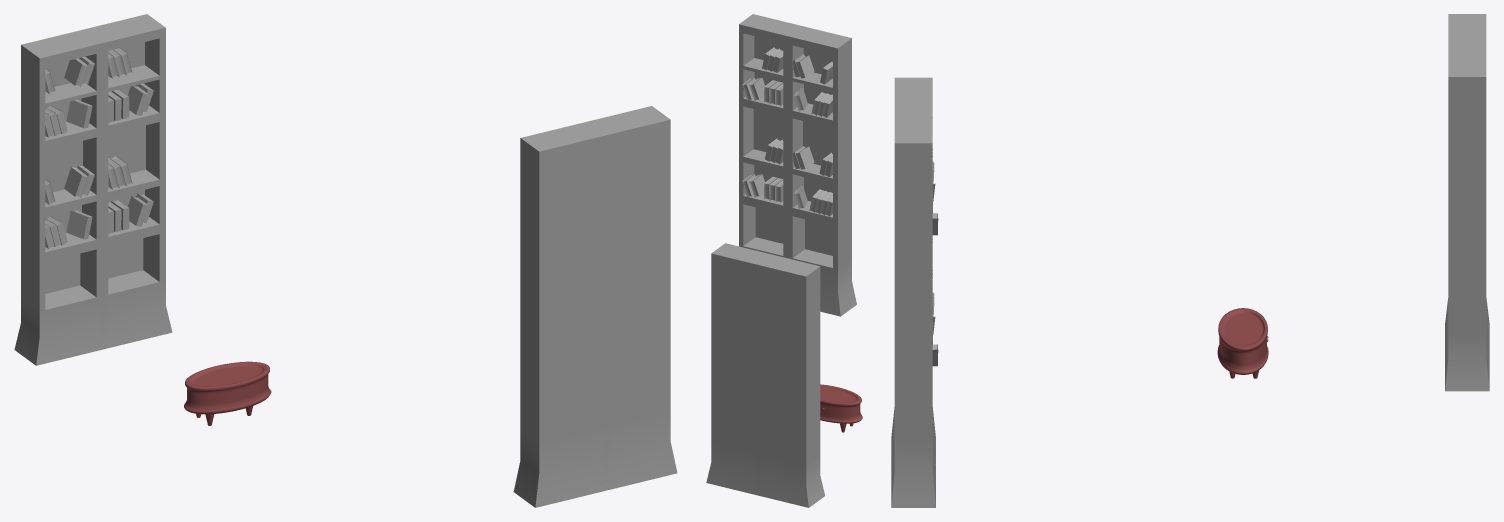
File: exportttt.fbx
The picture shows the model from 3 angles, left to right: view 1: azimuth 30°, elevation 25°; view 2: azimuth 150°, elevation 25°; view 3: azimuth 270°, elevation 25°; orthographic projection. The views are drawn at different scales.
Visible parts, largest first — view 1: BOOKSHELF1, BOOKSHELF, pCylinder16; view 2: BOOKSHELF, BOOKSHELF1, pCylinder16, book50, book67, book52, book35, book39, book56, book61; view 3: BOOKSHELF1, BOOKSHELF, pCylinder16.
Boxes of the visible parts, left/top/right/bottom form: BOOKSHELF1: left=513, top=106, right=677, bottom=507; BOOKSHELF: left=14, top=14, right=172, bottom=365; pCylinder16: left=184, top=361, right=271, bottom=414; BOOKSHELF: left=706, top=243, right=824, bottom=507; BOOKSHELF1: left=739, top=14, right=856, bottom=316; pCylinder16: left=820, top=384, right=862, bottom=423; book50: left=795, top=146, right=814, bottom=169; book67: left=795, top=55, right=814, bottom=78; book52: left=749, top=77, right=764, bottom=100; book35: left=749, top=174, right=764, bottom=197; book39: left=794, top=185, right=807, bottom=209; book56: left=794, top=88, right=807, bottom=111; book61: left=820, top=61, right=832, bottom=84; BOOKSHELF1: left=891, top=77, right=935, bottom=507; BOOKSHELF: left=1445, top=14, right=1489, bottom=391; pCylinder16: left=1217, top=308, right=1268, bottom=374.
Bounding box in the file's own units: 324 × 296 × 443.
